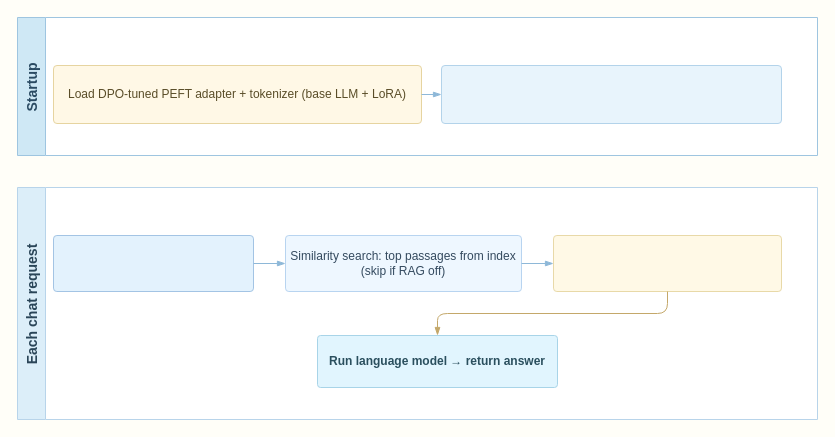
Some shapes in this 835 by 437 pixel diagram are drawn without their labels. Here are the shapes that lost their labels. From the top down, the centre of each, then its label:
At (611,94): "If RAG on: load embedding model + vector index; cache retriever".
At (153,263): "Receive question, audience, optional client context".
At (667,263): "Merge retrieved text + client context → build prompt".
